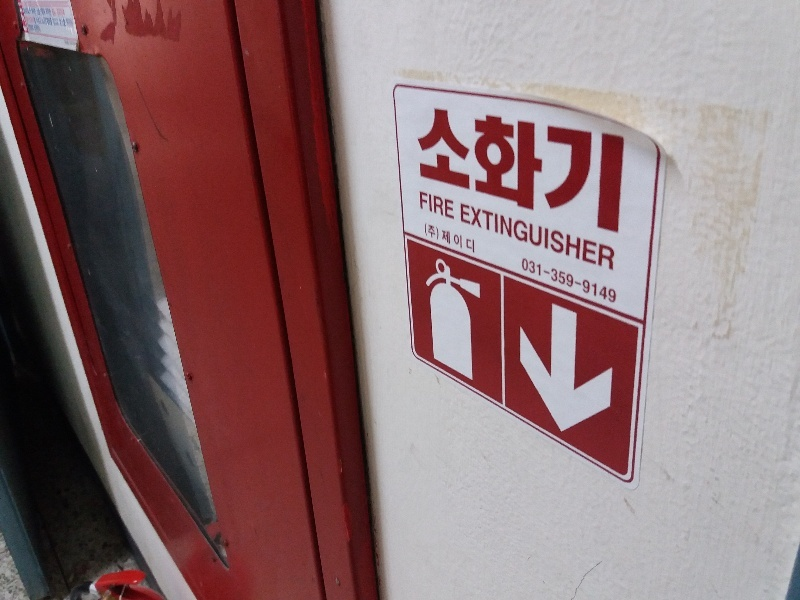text: (433, 107, 448, 236), (449, 107, 464, 236), (465, 107, 480, 236), (481, 107, 496, 236), (497, 107, 512, 236), (513, 107, 528, 236), (529, 107, 544, 236), (545, 107, 560, 236), (561, 107, 576, 236), (577, 107, 592, 236), (593, 107, 608, 236), (609, 107, 624, 236), (420, 107, 432, 236), (465, 202, 480, 272), (481, 202, 496, 272), (497, 202, 512, 272), (513, 202, 528, 272), (529, 202, 544, 272), (545, 202, 560, 272), (561, 202, 576, 272), (577, 202, 592, 272), (593, 202, 608, 272), (529, 257, 544, 304), (545, 257, 560, 304), (561, 257, 576, 304), (577, 257, 592, 304), (593, 257, 608, 304), (433, 190, 448, 221), (33, 5, 48, 34), (49, 5, 64, 34), (609, 202, 615, 272), (419, 190, 432, 221), (609, 257, 617, 304), (449, 229, 464, 254), (65, 5, 77, 34), (22, 5, 32, 34), (522, 257, 528, 304), (460, 202, 464, 272), (465, 229, 475, 254), (449, 190, 454, 221), (424, 222, 432, 241), (442, 229, 448, 254), (625, 107, 626, 236), (433, 222, 439, 241)
